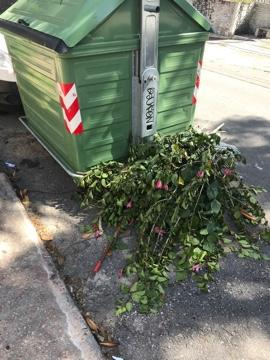Dechets: (84, 128, 264, 291), (0, 53, 23, 115)
Trash: (0, 0, 211, 177)
